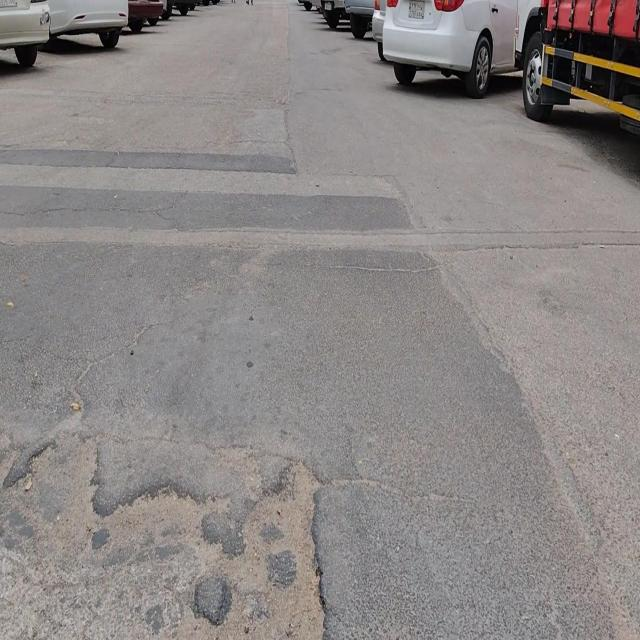Pothole: (92, 481, 248, 639), (218, 458, 327, 639)
